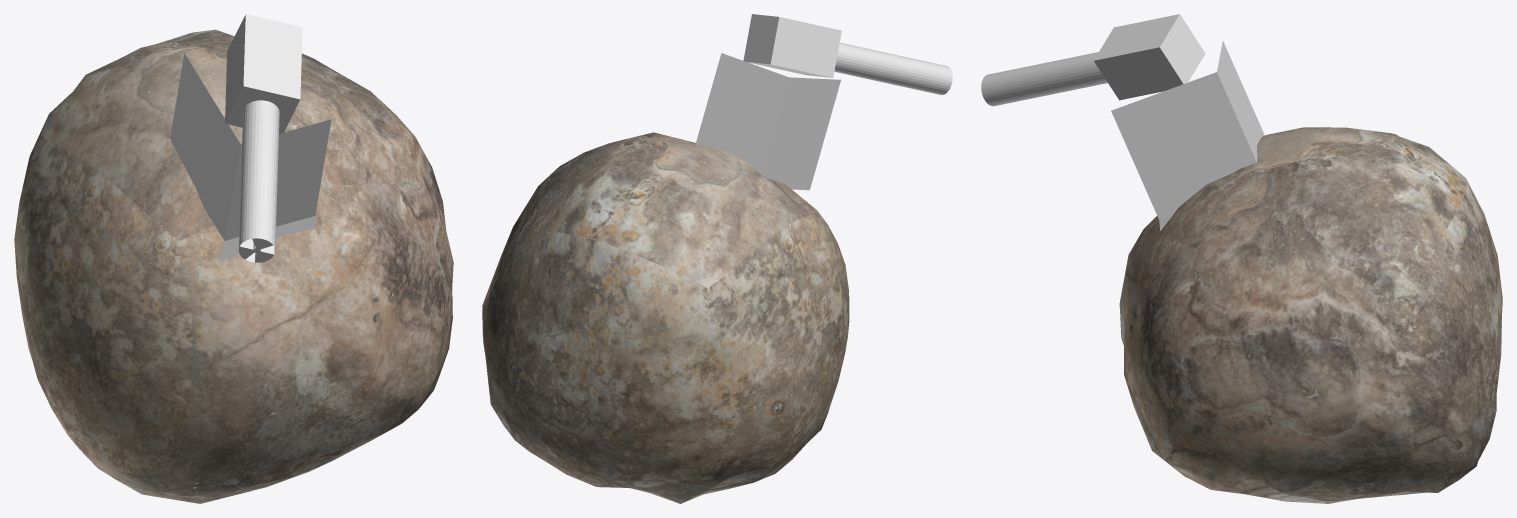
File: asteroid_single_w_sattelite.glb
The picture shows the model from 3 angles, left to right: view 1: azimuth 30°, elevation 25°; view 2: azimuth 150°, elevation 25°; view 3: azimuth 270°, elevation 25°; orthographic projection. The views are drawn at different scales.
Parts seen in each view (by area): view 1: Cube.001, Cube, Cube.002, Cylinder; view 2: Cube.001, Cube, Cube.002, Cylinder; view 3: Cube.001, Cube, Cube.002, Cylinder.
Part boxes in pixels (x1,y1,x2,y2): Cube.001: (14,29,453,503); Cube: (170,53,331,261); Cube.002: (225,14,302,133); Cylinder: (238,100,279,262); Cube.001: (482,132,849,503); Cube: (695,53,840,190); Cube.002: (743,14,841,77); Cylinder: (834,42,952,95); Cube.001: (1119,127,1502,503); Cube: (1111,41,1264,230); Cube.002: (1093,14,1205,100); Cylinder: (981,52,1107,106).
Bounding box in the file's own units: 2.79 × 3.72 × 3.82.
Materials: 1 (1 with a texture image).
